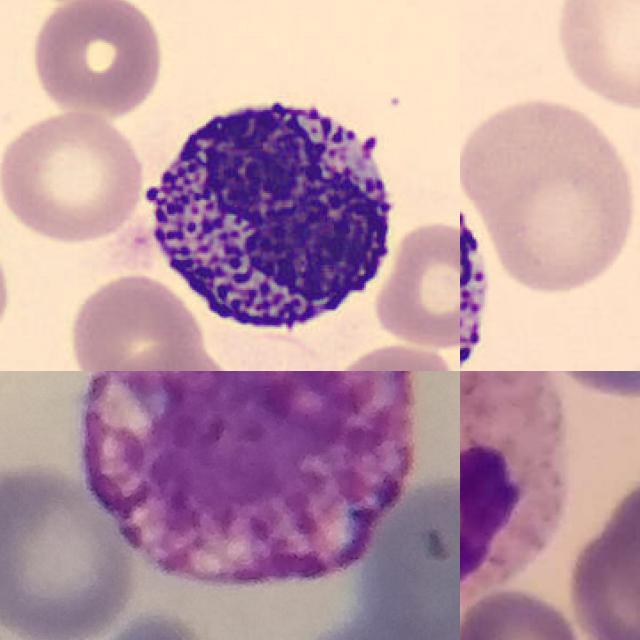Basophil: (128, 80, 407, 343), (79, 371, 416, 585)
Neutrophil: (460, 371, 566, 618)
RBC: (460, 90, 640, 300), (0, 108, 147, 245), (28, 0, 166, 120), (63, 272, 204, 371), (371, 217, 460, 351), (550, 0, 640, 115), (320, 339, 460, 371), (0, 214, 19, 371)
